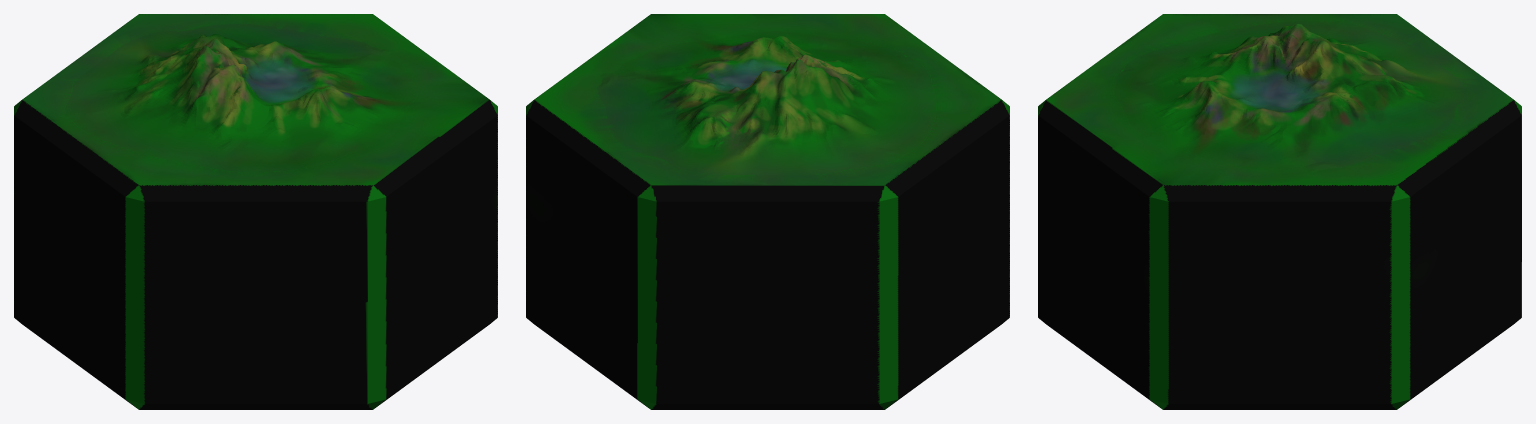
The model's file is Green.02.fbx.
3 renders of one model, left to right at view 1: azimuth 30°, elevation 25°; view 2: azimuth 150°, elevation 25°; view 3: azimuth 270°, elevation 25°, orthographic.
Visible parts, largest first — view 1: 02.Green; view 2: 02.Green; view 3: 02.Green.
Boxes of the visible parts, x1=… form: 02.Green: x1=14, y1=14, x2=497, y2=409; 02.Green: x1=526, y1=14, x2=1009, y2=409; 02.Green: x1=1038, y1=14, x2=1521, y2=409.
Bounding box in the file's own units: 173 × 125 × 195.
1 material, 1 textured.
